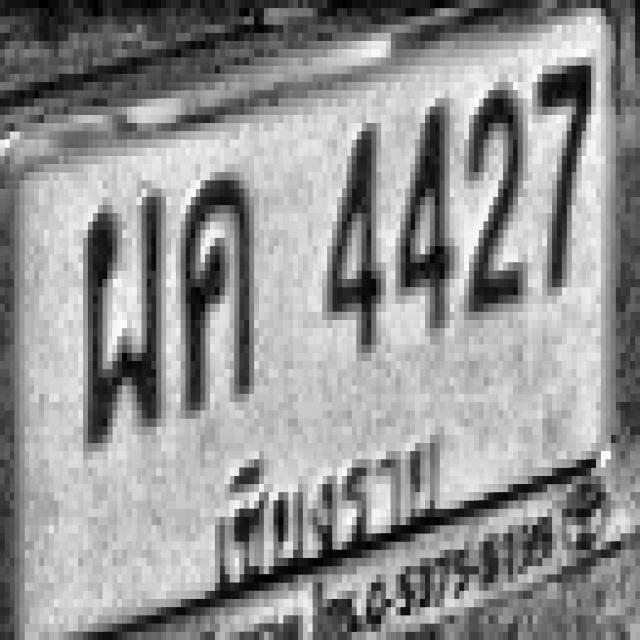license-plate: (2, 2, 612, 640)
